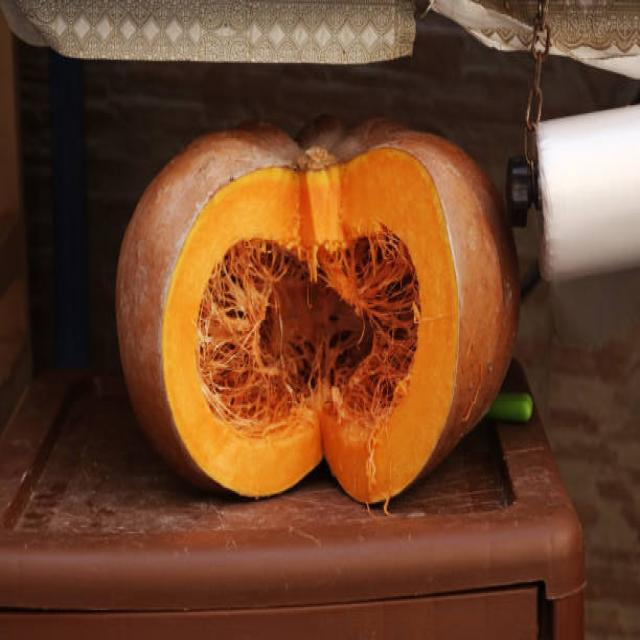pumpkin: (117, 110, 504, 499)
